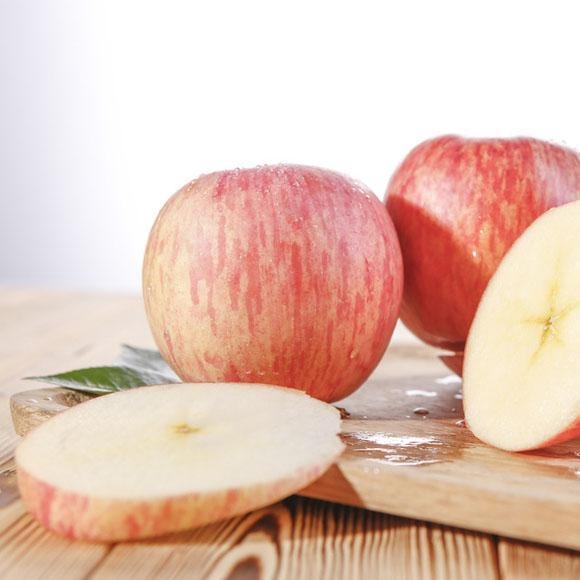apple: (138, 161, 406, 398), (384, 137, 579, 353)
